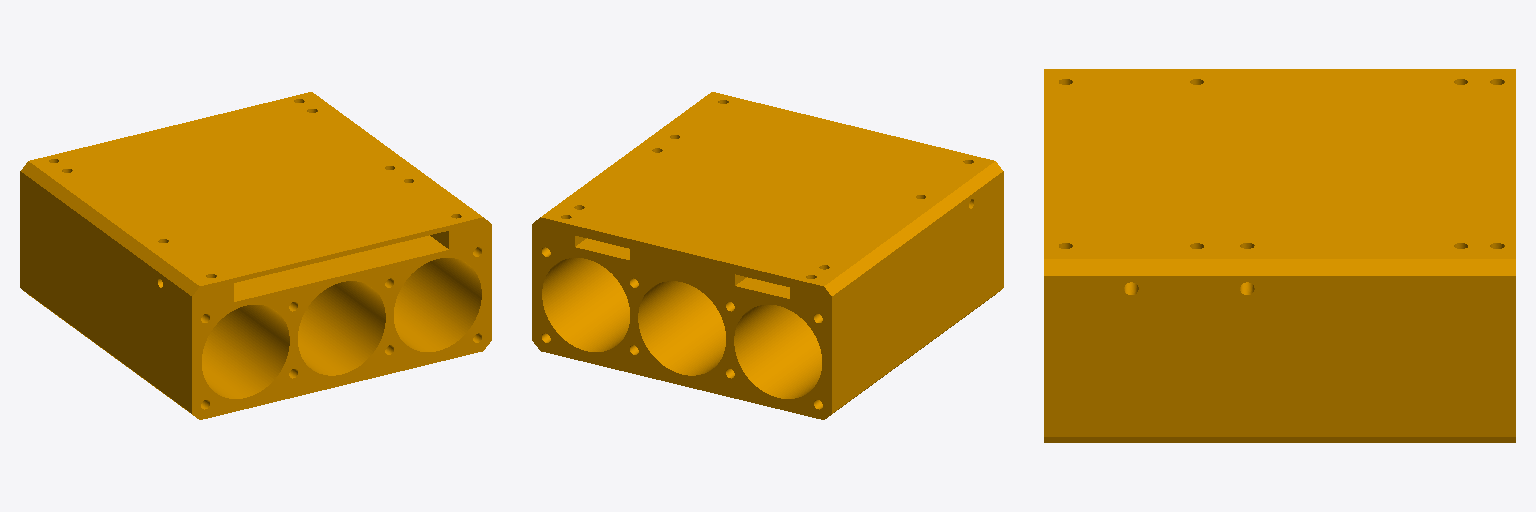
The robot description file, URDF, robot "trinibot":
<?xml version="1.0"?>
<robot xmlns:xacro="http://www.ros.org/wiki/xacro" name="trinibot">
<!--<xacro:include filename="$(find trinibot_core)/assets/trinibot_materials.xacro" />-->

	<link name="trinibot_batt_body">
	    <visual>
	        <origin rpy="0.0 0 0" xyz="0 0 0"/>
	        <geometry>
                <mesh filename="package://trinibot_core/assets/trinibot/BATT-BODY_1_Body1_BATT-BODY.stl" scale="0.001 0.001 0.001"/>
		    </geometry>
			<!--<material name="blue"/>-->
  		
	    </visual>

        <link name="trinibot_batt_body_cover_front">
            <visual>
                <origin rpy="0.0 0 0" xyz="0 0 0"/>
                <geometry>
                      <mesh filename="package://trinibot_core/assets/trinibot/BATT-COVER-FRONT_1_Component18_1_Component21_1_Component23_1_Body1_Component23.stl" scale="0.001 0.001 0.001"/>
                </geometry>
                <!--<material name="blue"/>-->

            </visual>
	    </link>

         <link name="trinibot_batt_body_cover_rear">
            <visual>
                <origin rpy="0.0 0 0" xyz="0 0 0"/>
                <geometry>
                      <mesh filename="package://trinibot_core/assets/trinibot/BATT-COVER-REAR_1_Component51_1_Component52_1_Component53_1_Body1_Component53.stl" scale="0.001 0.001 0.001"/>
                </geometry>
                <!--<material name="blue"/>-->

            </visual>
	    </link>



	</link>



</robot>


           <!--

           <mesh filename="package://trinibot_core/assets/trinibot/BATT-COVER-FRONT_1_Component18_1_Component21_1_Component23_1_Body1_Component23.stl" scale="0.001 0.001 0.001"/>-->
                <!--<mesh filename="package://trinibot_core/assets/trinibot/BATT-COVER-REAR_1_Component51_1_Component52_1_Component53_1_Body1_Component53.stl" scale="0.001 0.001 0.001"/>-->
                <!--<mesh filename="package://trinibot_core/assets/trinibot/BATT-ELECTRONICS_1_Body1_BATT-ELECTRONICS.stl" scale="0.001 0.001 0.001"/>-->
                <!--<mesh filename="package://trinibot_core/assets/trinibot/Camera mount v7_1_Bracket-Left_1_Body1_Bracket-Left.stl" scale="0.001 0.001 0.001"/>-->
                <!--<mesh filename="package://trinibot_core/assets/trinibot/Camera mount v7_1_Bracket-Left_1_Body1_Bracket-Left_1.stl" scale="0.001 0.001 0.001"/>-->
                <!--<mesh filename="package://trinibot_core/assets/trinibot/Camera mount v7_1_Bracket-Left_2_Body1_Bracket-Left.stl" scale="0.001 0.001 0.001"/>-->
                <!--<mesh filename="package://trinibot_core/assets/trinibot/Camera mount v7_1_Bracket-Left_2_Body1_Bracket-Left_1.stl" scale="0.001 0.001 0.001"/>-->
                <!--<mesh filename="package://trinibot_core/assets/trinibot/Camera mount v7_1_Camera-Mount_1_Body1_Camera-Mount.stl" scale="0.001 0.001 0.001"/>-->
                <!--<mesh filename="package://trinibot_core/assets/trinibot/Component77_1_Body1_Component77.stl" scale="0.001 0.001 0.001"/>-->
                <!--<mesh filename="package://trinibot_core/assets/trinibot/Component78_1_Body1_Component78.stl" scale="0.001 0.001 0.001"/>-->
                <!--<mesh filename="package://trinibot_core/assets/trinibot/Component79_1_Body1_Component79.stl" scale="0.001 0.001 0.001"/>-->
                <!--<mesh filename="package://trinibot_core/assets/trinibot/Component80_1_Body1_Component80.stl" scale="0.001 0.001 0.001"/>-->
                <!--<mesh filename="package://trinibot_core/assets/trinibot/Depthsense-mount_1_Body1_Depthsense-mount.stl" scale="0.001 0.001 0.001"/>

                -->

--- Render facts (derived) ---
The picture shows the robot from 3 angles, left to right: view 1: azimuth 30°, elevation 25°; view 2: azimuth 150°, elevation 25°; view 3: azimuth 270°, elevation 25°; orthographic projection.
Model trinibot with 1 links and 0 joints (none), rooted at trinibot_batt_body, posed every joint at zero.
Visible links, largest first — view 1: trinibot_batt_body; view 2: trinibot_batt_body; view 3: trinibot_batt_body.
Boxes of the visible links, bbox=[...] form: trinibot_batt_body: bbox=[20, 92, 491, 419]; trinibot_batt_body: bbox=[532, 92, 1003, 419]; trinibot_batt_body: bbox=[1044, 69, 1515, 442].
Size in the robot's own frame: 0.0655 by 0.065 by 0.028 metres.
Meshes: 1 distinct files referenced, 1 mesh visuals loaded (1 binary STL).